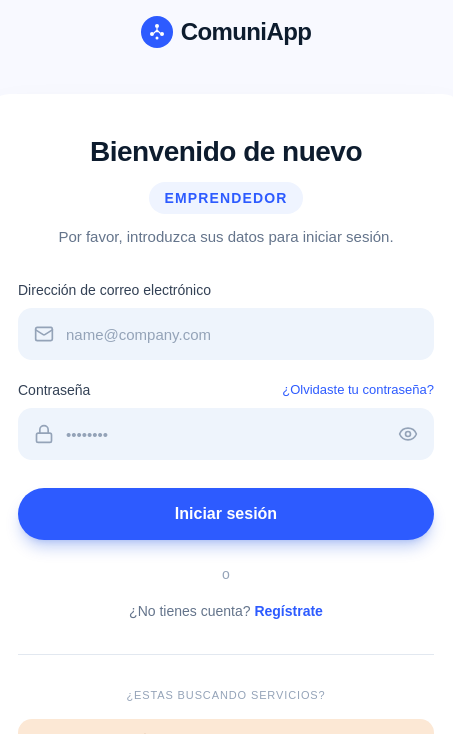
LoginEmprendedorPage › rechaza credenciales de residente
Type "residente@comuniapp.com" into the field labelled "Dirección de correo electrónico" at [226, 334], box 18,308 -> 434,360
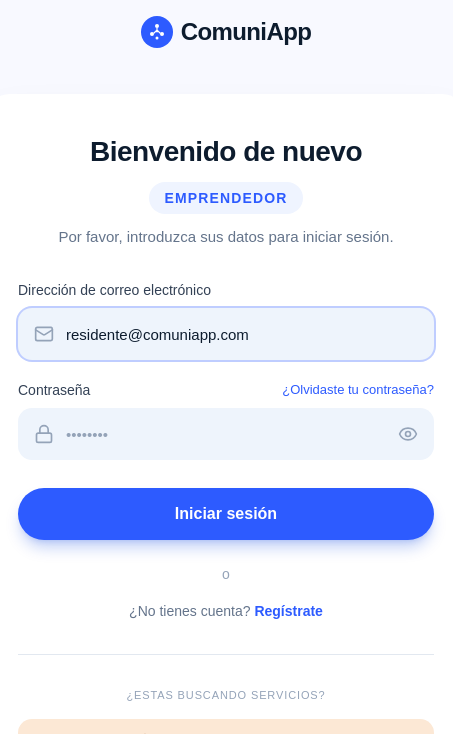
Type "residente123" into the password field labelled "Contraseña" at [226, 434], box 18,408 -> 434,460
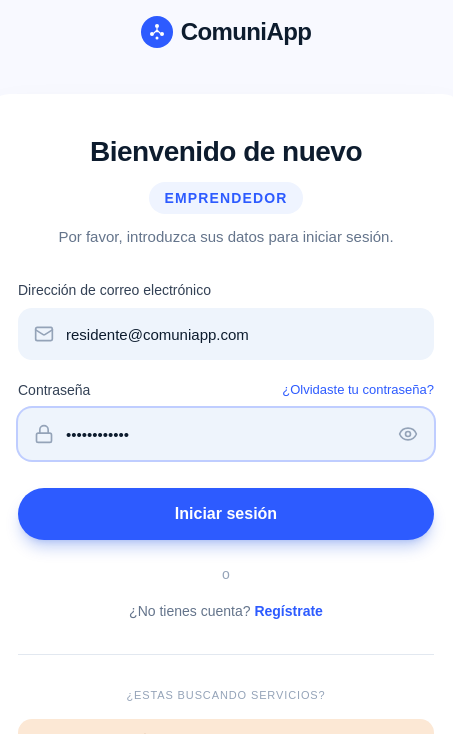
Click the button "Iniciar sesión" at [226, 514], box 18,488 -> 434,540
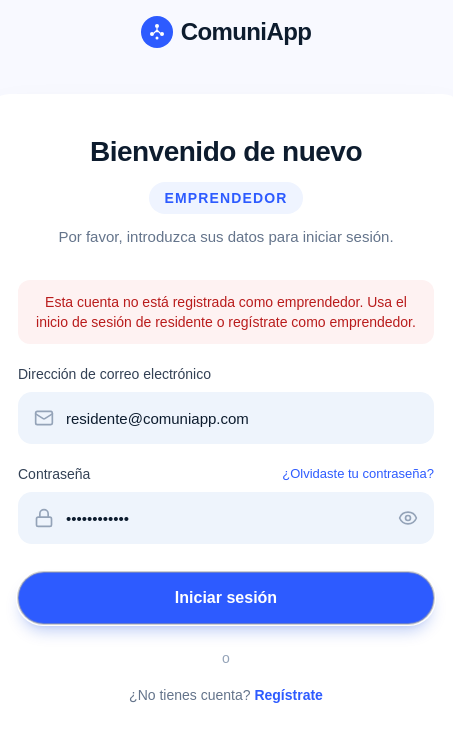
Now the text "no está registrada como emprendedor" is shown, box 36,294 -> 416,330
